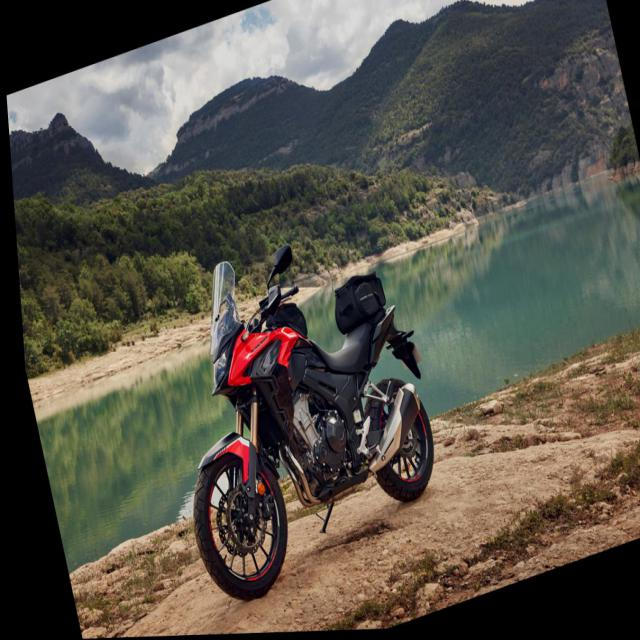CB500X: (133, 203, 452, 620)
